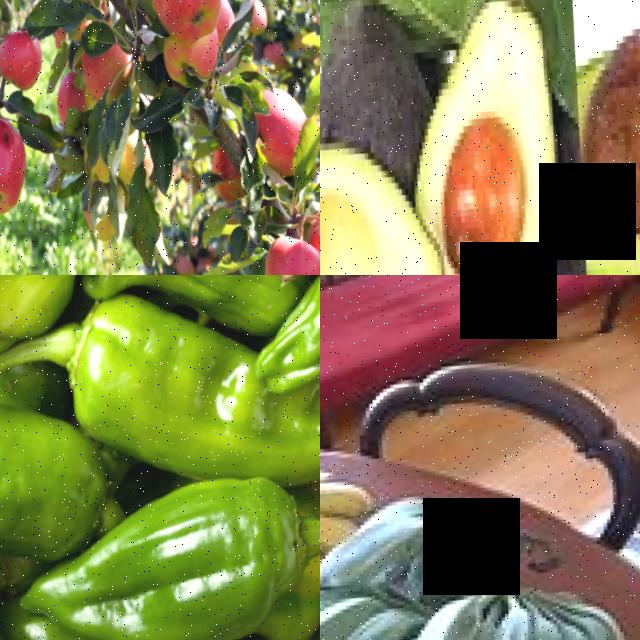apple: (249, 61, 320, 163), (0, 14, 67, 104), (0, 108, 47, 220), (138, 0, 243, 47), (263, 213, 320, 275), (214, 140, 249, 196), (268, 38, 297, 72), (248, 0, 277, 31)
avocado: (389, 0, 607, 275), (320, 101, 484, 275), (549, 0, 640, 275)
banana: (320, 502, 455, 592), (381, 586, 505, 640), (460, 598, 565, 640), (320, 585, 396, 640), (320, 466, 385, 514), (579, 601, 639, 640), (320, 511, 363, 545)
pepper: (34, 310, 251, 443), (258, 275, 320, 373)
